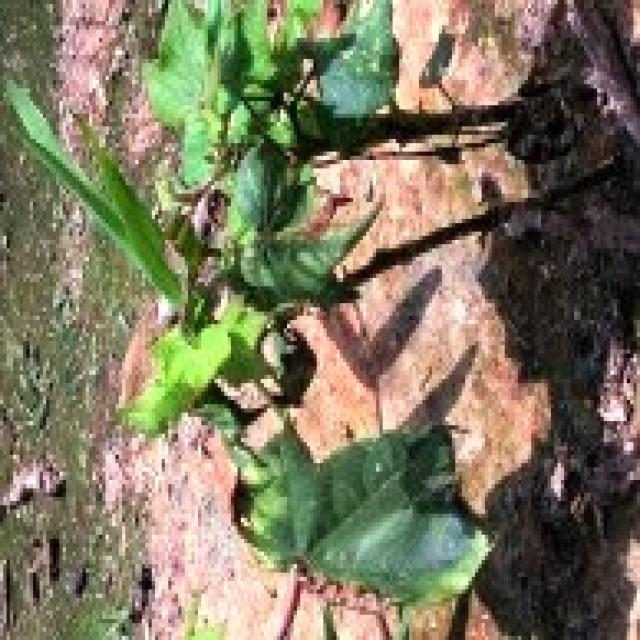Fusarium Wilt: (42, 5, 558, 603)
